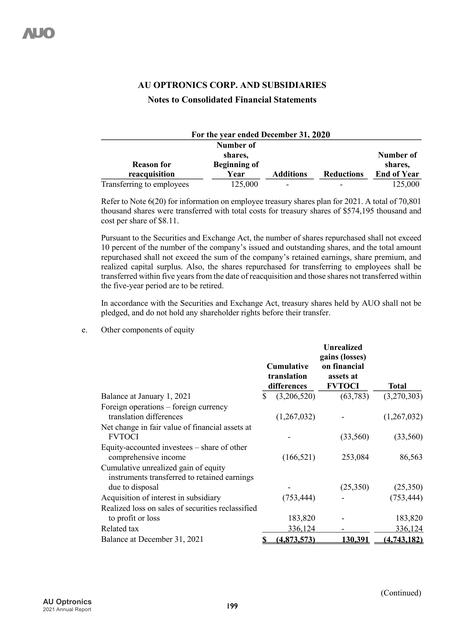box: (97, 343, 426, 549), (98, 129, 423, 191)
